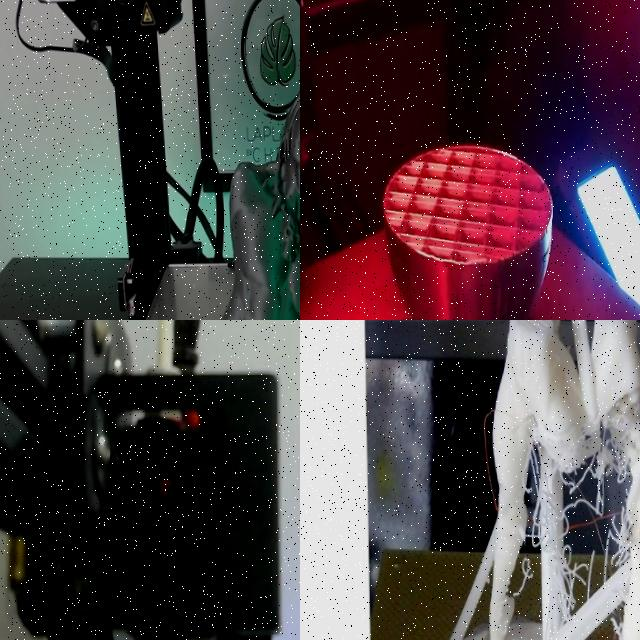spaghetti: (483, 401, 640, 640), (545, 466, 634, 610), (520, 402, 550, 560), (595, 395, 640, 470)
